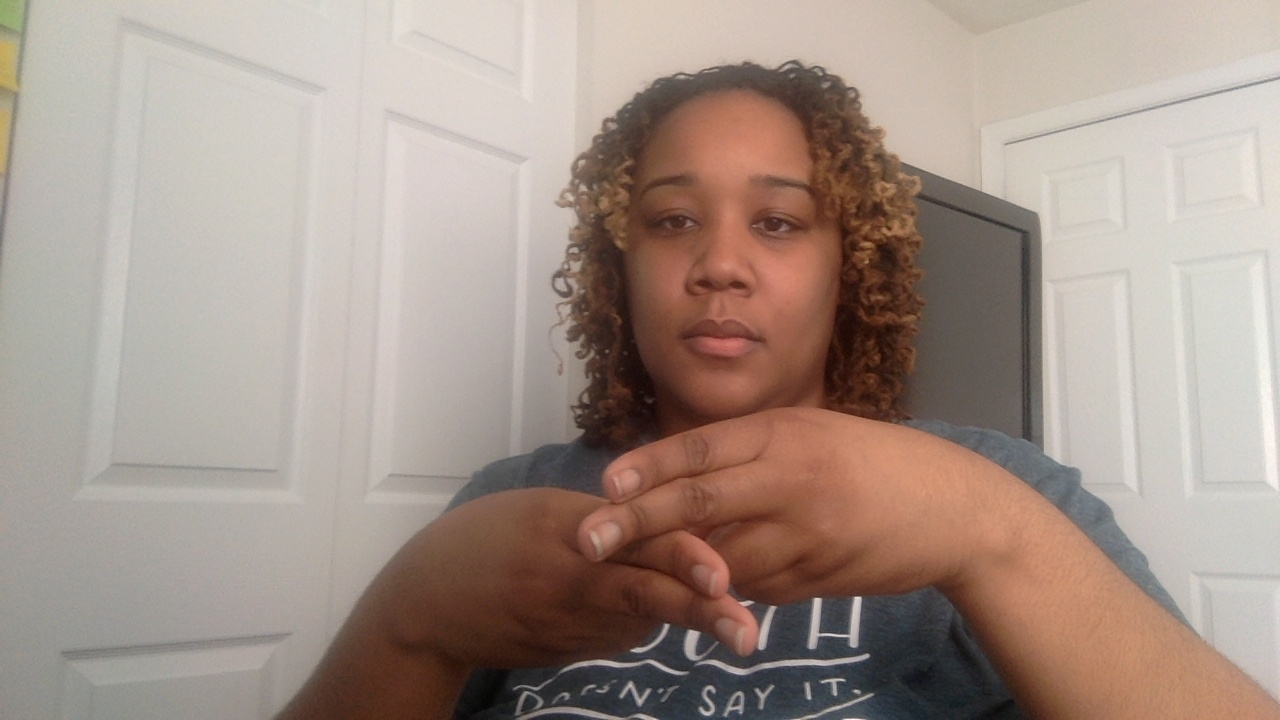name: (372, 411, 1106, 667)
